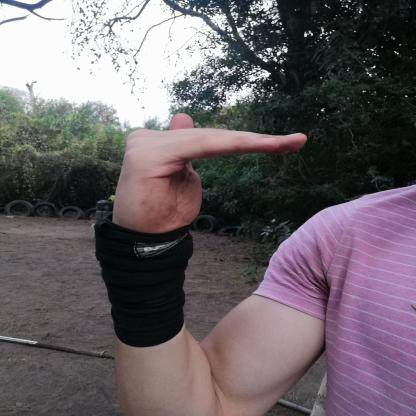KHAA: (90, 100, 322, 254)
